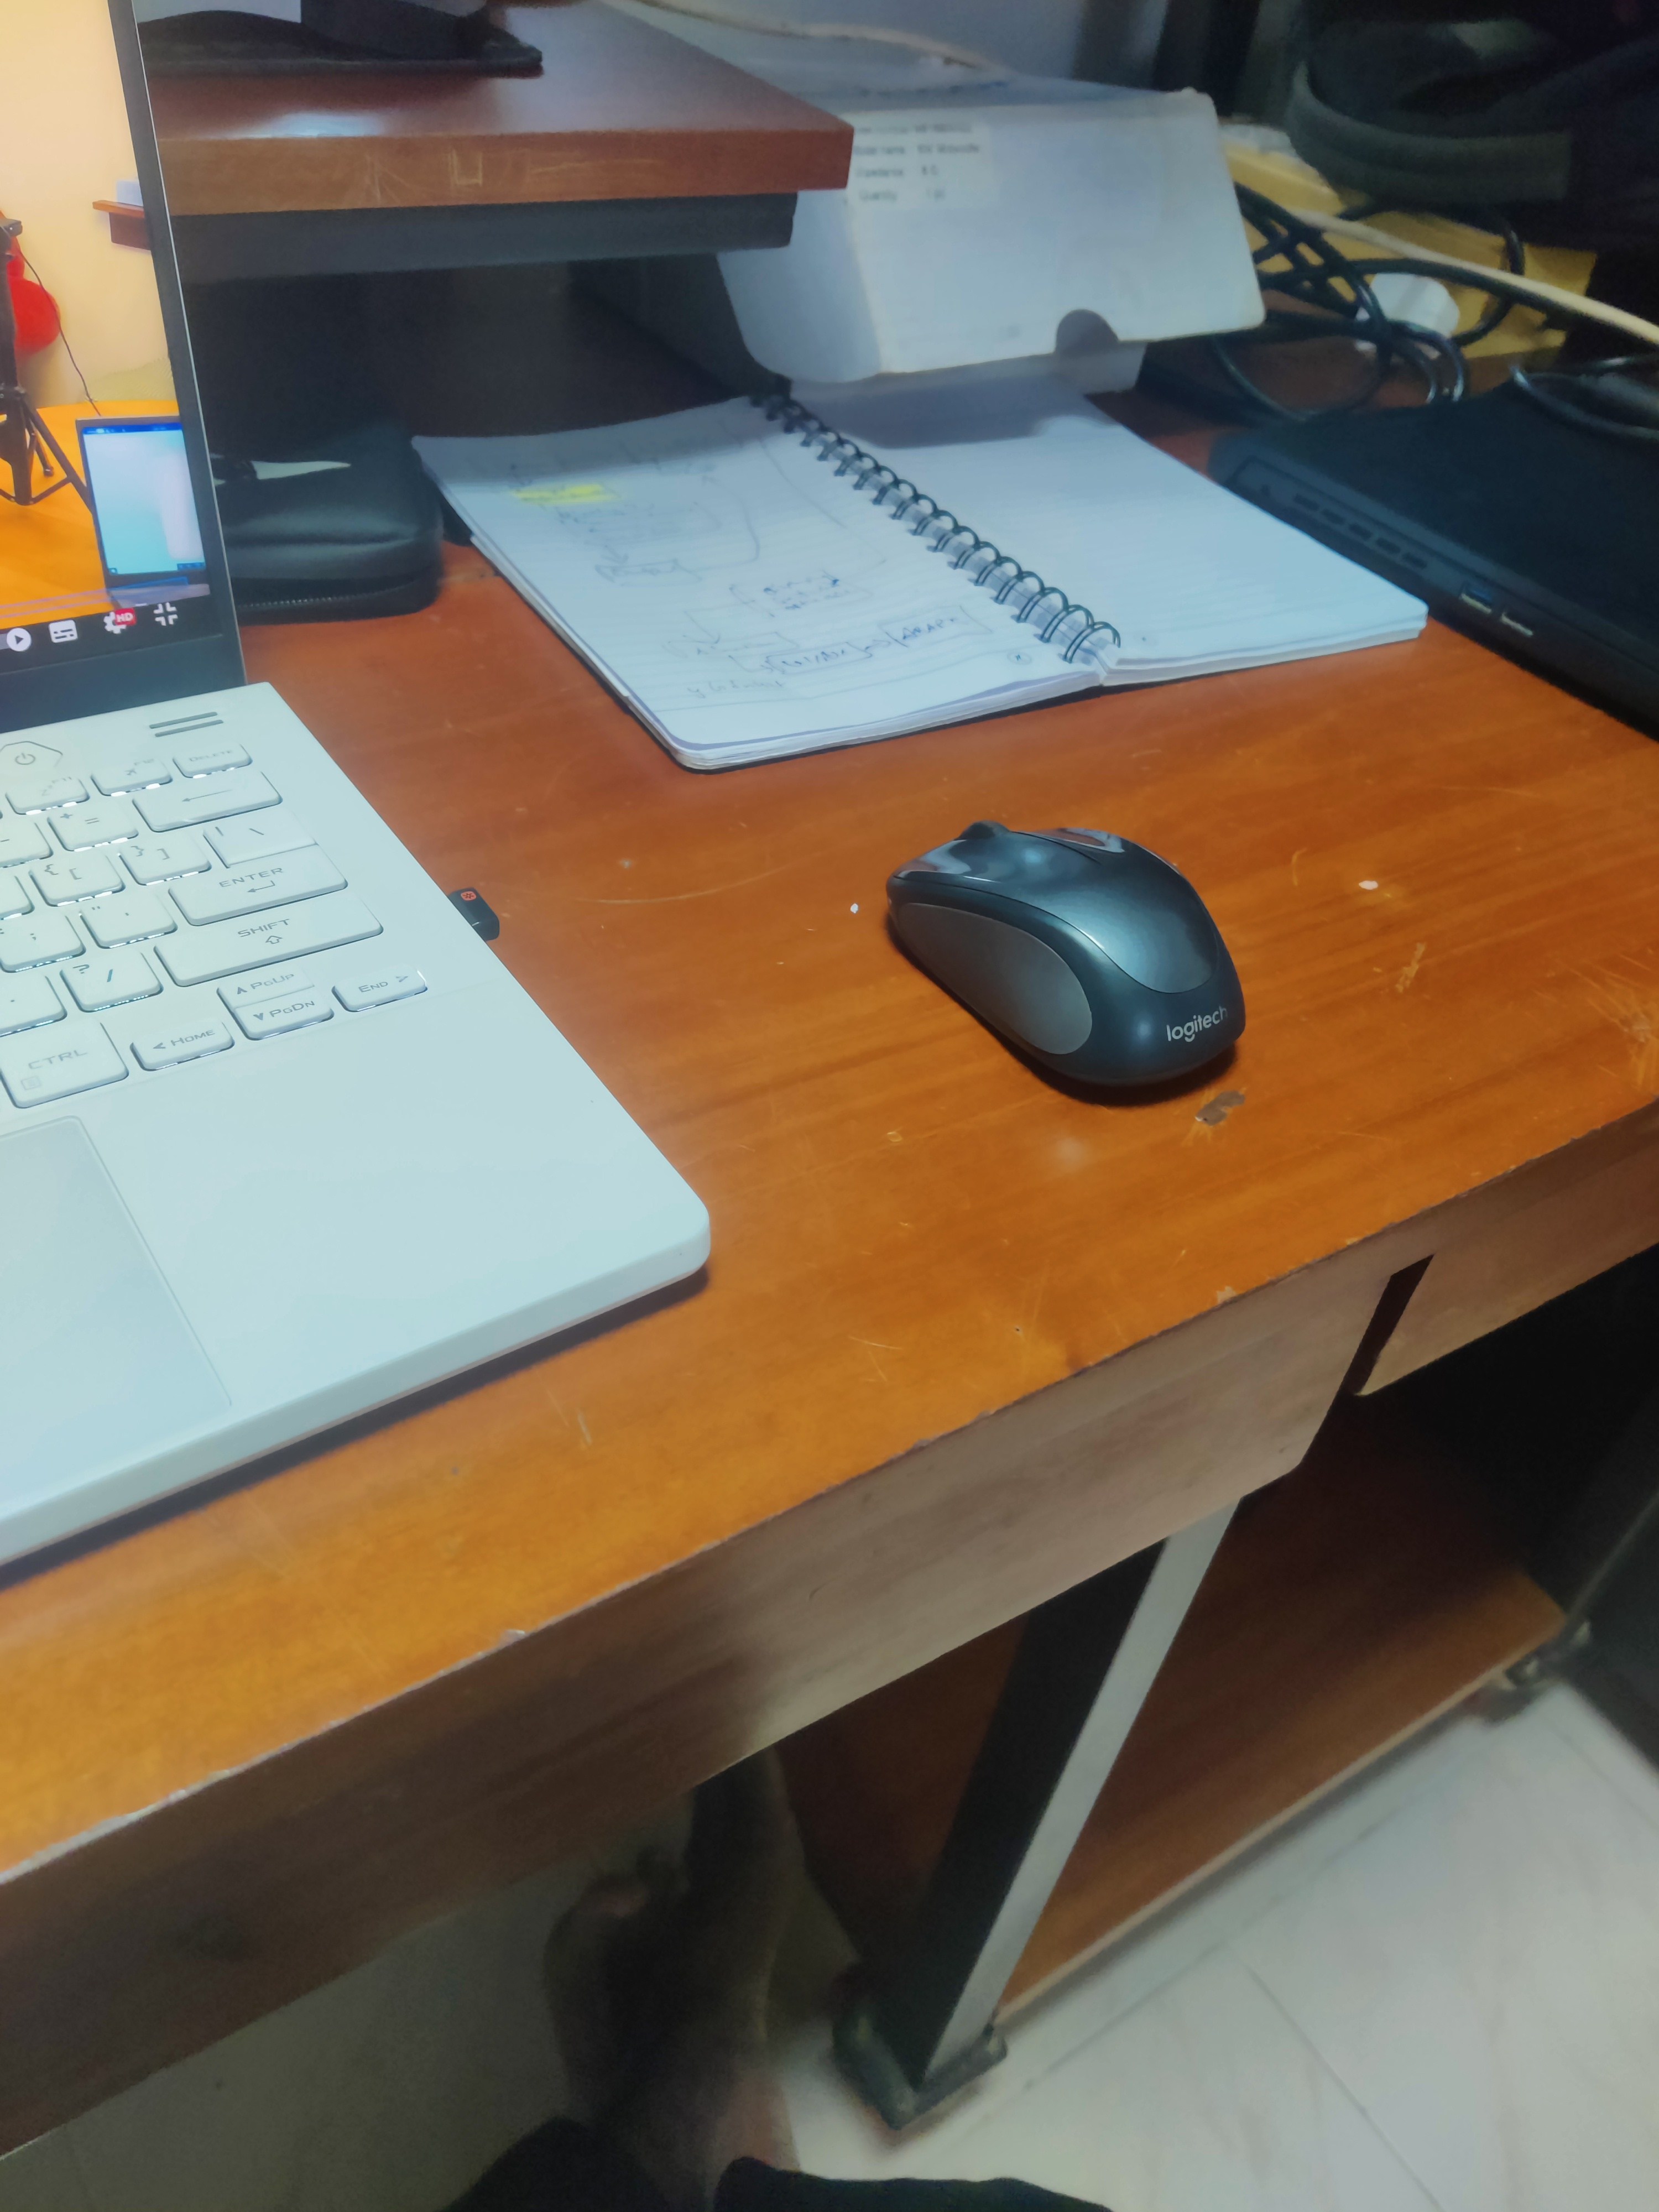logitechMouse: (880, 812, 1255, 1111)
